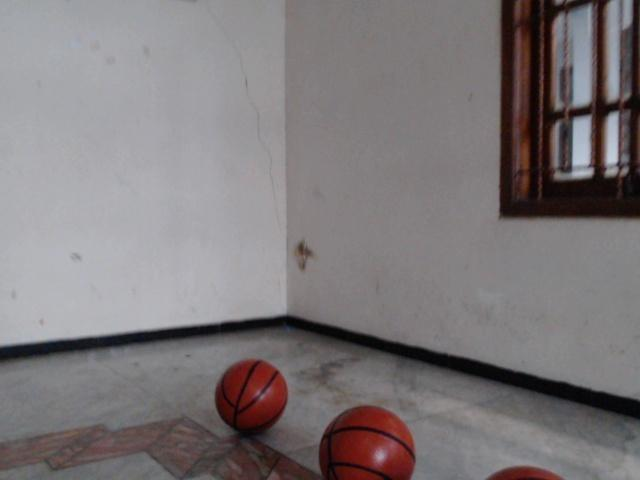Sports-Ball: (313, 406, 417, 480), (208, 352, 291, 436)
